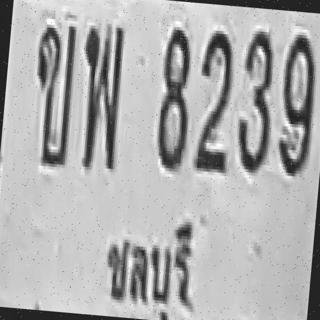A02: (26, 19, 78, 166)
A30: (74, 21, 127, 170)
N02: (192, 28, 238, 172)
N03: (234, 27, 278, 174)
N08: (154, 27, 196, 171)
N09: (275, 31, 319, 177)
P13: (90, 204, 206, 320)
